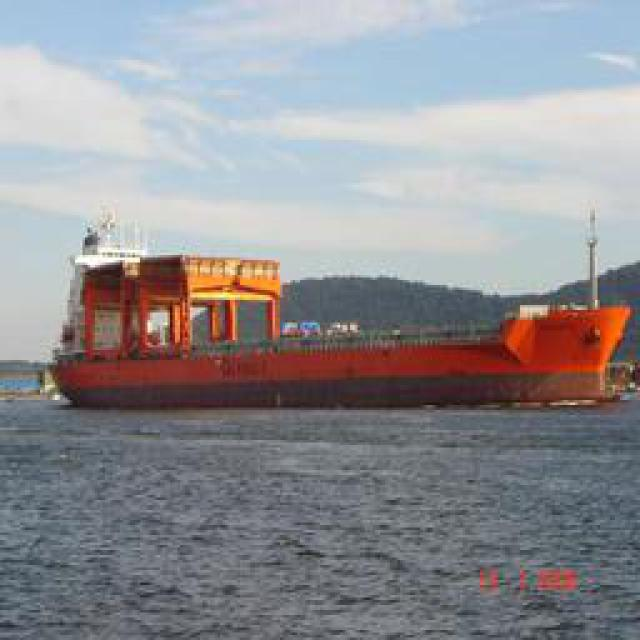Ship: (59, 234, 629, 414)
